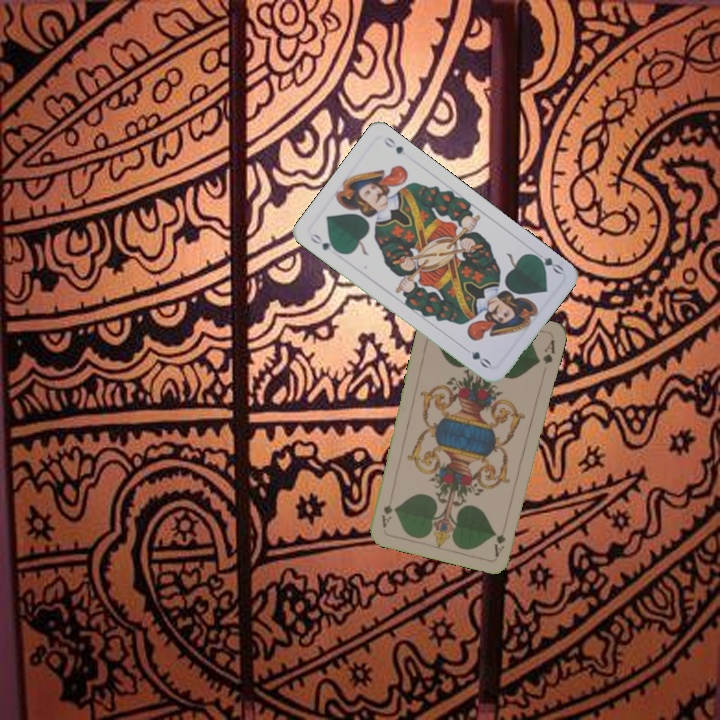GA: (490, 519, 509, 559)
GO: (528, 250, 566, 277), (306, 230, 343, 256)
